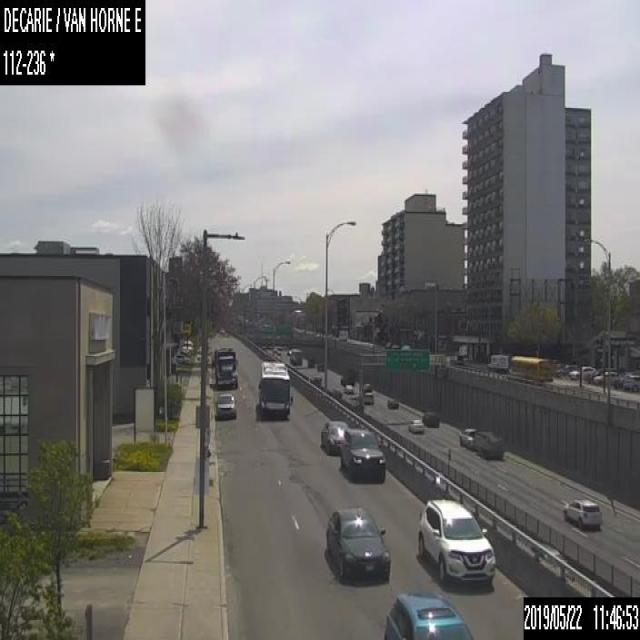bus: (256, 360, 291, 417), (508, 355, 552, 382)
vehicle: (417, 496, 495, 587), (325, 507, 390, 581), (383, 589, 472, 639), (340, 428, 385, 480), (457, 425, 503, 459), (562, 497, 603, 528), (213, 345, 238, 388), (319, 419, 348, 454), (214, 393, 236, 419), (486, 353, 508, 374), (568, 365, 596, 379), (592, 370, 618, 384), (421, 409, 439, 427), (360, 383, 374, 403), (586, 367, 604, 381), (623, 375, 639, 390), (347, 396, 363, 409), (407, 419, 423, 432), (330, 384, 343, 398), (289, 347, 301, 362), (387, 396, 398, 408), (343, 383, 353, 393), (337, 329, 347, 339), (310, 374, 320, 384), (316, 360, 324, 371), (306, 356, 314, 366), (399, 343, 410, 349), (384, 340, 392, 348), (391, 343, 399, 349)
